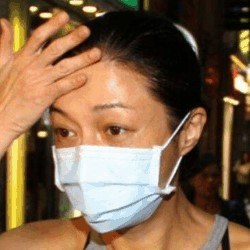mask: (46, 132, 169, 231)
